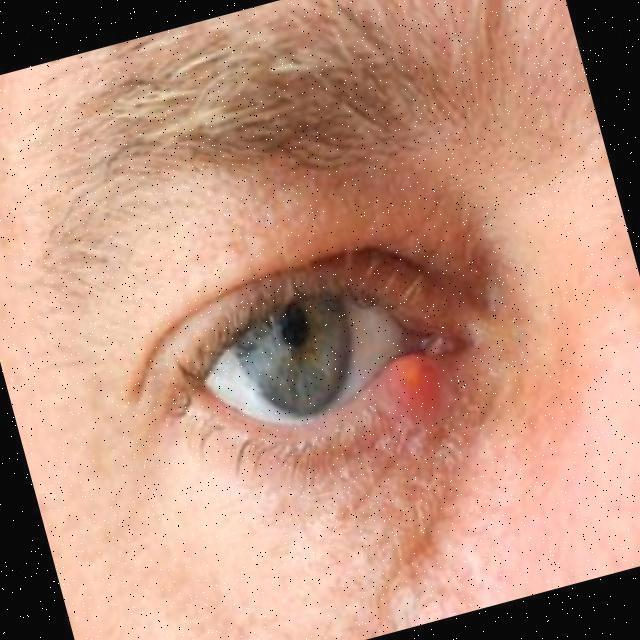Stye: (304, 273, 522, 496)
